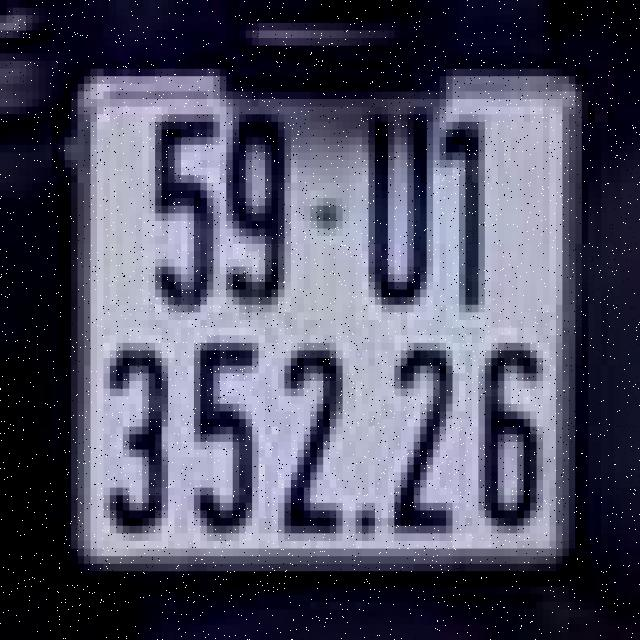1: (443, 106, 507, 328)
2: (378, 328, 462, 541), (272, 335, 349, 541)
3: (97, 320, 181, 549)
5: (188, 328, 272, 533), (145, 107, 223, 312)
6: (472, 335, 549, 541)
9: (226, 103, 298, 308)
U: (359, 99, 436, 320)
